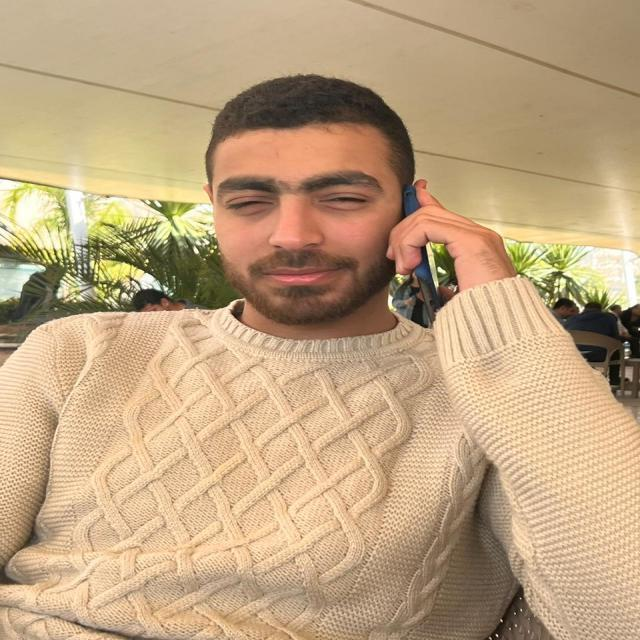phone: (402, 186, 440, 320)
